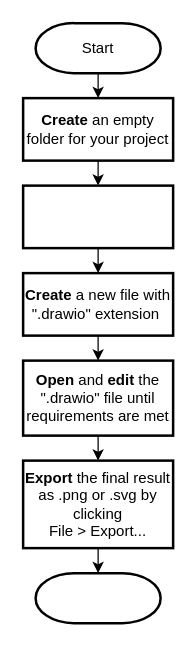
Image size: 195x645. Some labels were removed from this diagram. The centre of each missing label's shape, as x and y in pixels:
"End" goes at point (97, 597).
"Open the folder in VSCode" goes at point (97, 216).
